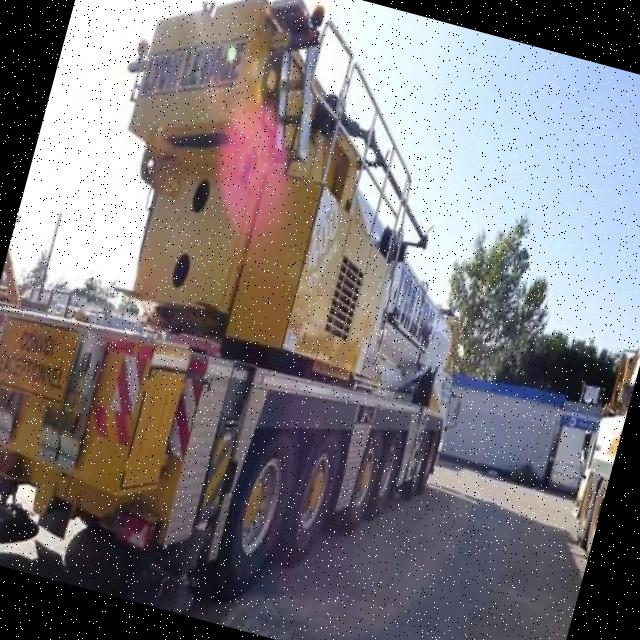Mobile Crane: (0, 0, 542, 640)
